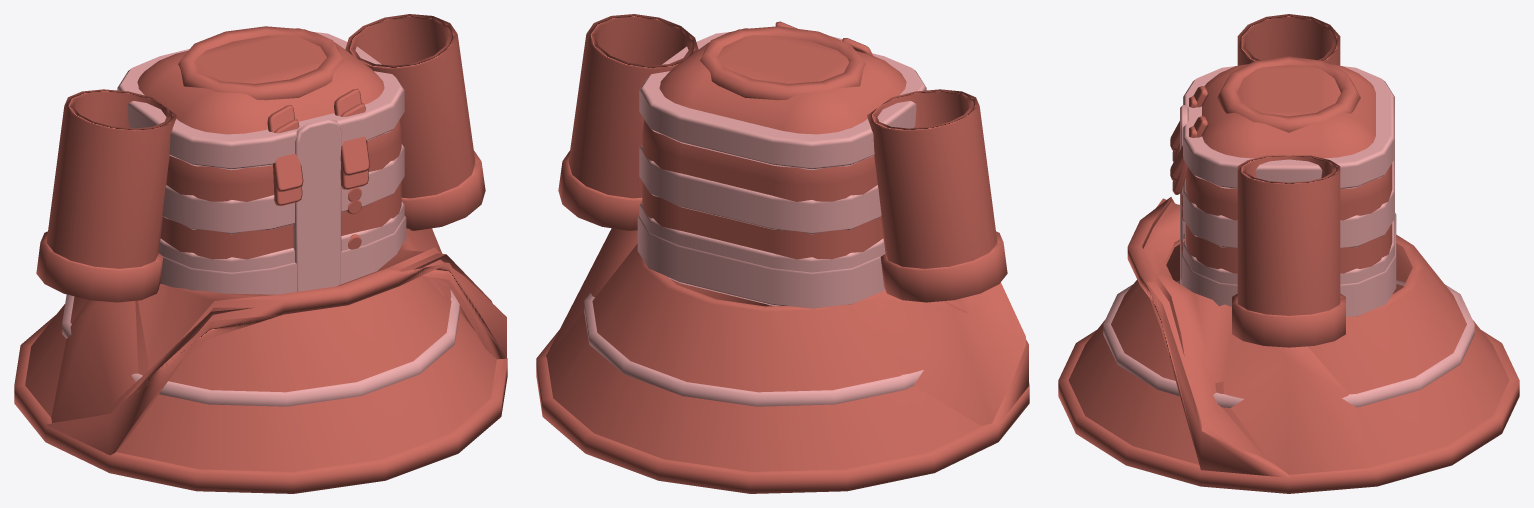
File: cozy_paradise_planning_coat.glb
3 renders of one model, left to right at view 1: azimuth 30°, elevation 25°; view 2: azimuth 150°, elevation 25°; view 3: azimuth 270°, elevation 25°, orthographic. The views are drawn at different scales.
Parts seen in each view (by area): view 1: cozy_paradise_planning_coat_Body, cozy_paradise_planning_coat_Body_sit, cozy_paradise_planning_coat_ArmL, cozy_paradise_planning_coat_ArmR; view 2: cozy_paradise_planning_coat_Body, cozy_paradise_planning_coat_Body_sit, cozy_paradise_planning_coat_ArmL, cozy_paradise_planning_coat_ArmR; view 3: cozy_paradise_planning_coat_Body, cozy_paradise_planning_coat_Body_sit, cozy_paradise_planning_coat_ArmR, cozy_paradise_planning_coat_ArmL.
Boxes of the visible parts, box(x1,y1,x2,y2) form: cozy_paradise_planning_coat_Body: box(14, 26, 507, 493); cozy_paradise_planning_coat_Body_sit: box(46, 32, 506, 455); cozy_paradise_planning_coat_ArmL: box(36, 89, 176, 302); cozy_paradise_planning_coat_ArmR: box(345, 14, 485, 230); cozy_paradise_planning_coat_Body: box(536, 26, 1029, 493); cozy_paradise_planning_coat_Body_sit: box(546, 21, 1028, 425); cozy_paradise_planning_coat_ArmL: box(867, 89, 1007, 302); cozy_paradise_planning_coat_ArmR: box(558, 14, 698, 230); cozy_paradise_planning_coat_Body: box(1058, 56, 1519, 493); cozy_paradise_planning_coat_Body_sit: box(1127, 66, 1410, 477); cozy_paradise_planning_coat_ArmR: box(1232, 155, 1345, 347); cozy_paradise_planning_coat_ArmL: box(1237, 14, 1340, 65).
Bounding box in the file's own units: 0.6504 × 0.5269 × 0.648.
